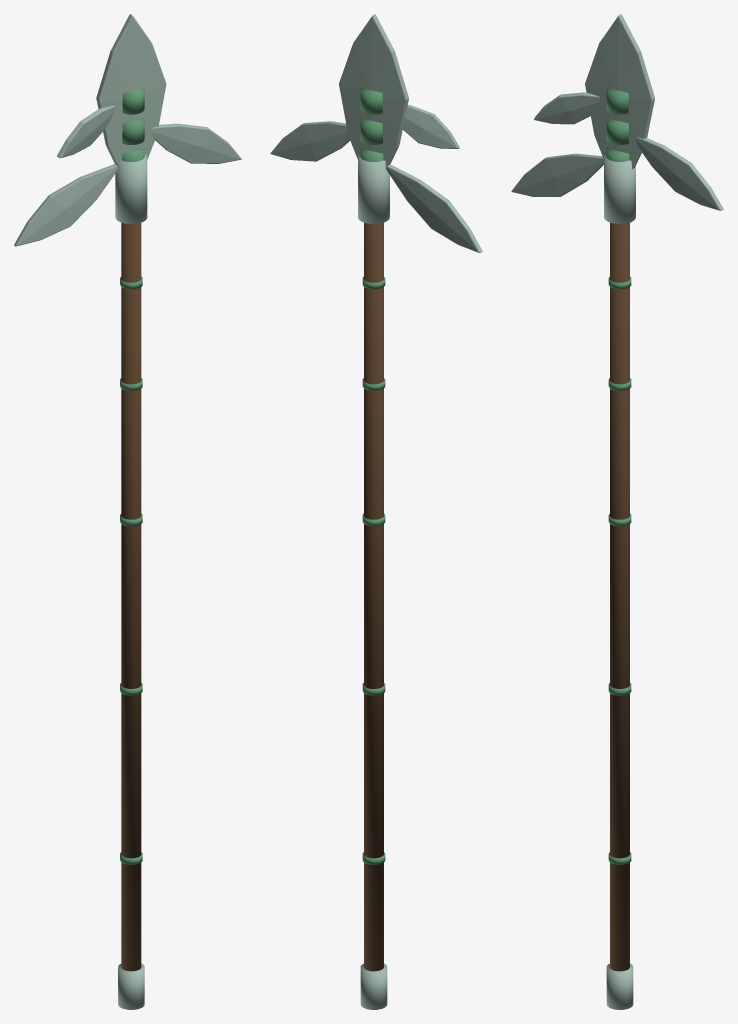
Rendered from elven-branched-spear-thorn.fbx.
The picture shows the model from 3 angles, left to right: view 1: azimuth 30°, elevation 25°; view 2: azimuth 150°, elevation 25°; view 3: azimuth 330°, elevation 25°; orthographic projection.
Visible parts, largest first — view 1: ElvenBranchedSpearThornShaft, ElvenBranchedSpearThornCentralLeaf, ElvenBranchedSpearThornBranchLeftLow, ElvenBranchedSpearThornBranchRightMid, ElvenBranchedSpearThornHeadCollar, ElvenBranchedSpearThornBranchLeftHigh, ElvenBranchedSpearThornButtCap, ElvenBranchedSpearThornBranchLeftHighCollar, ElvenBranchedSpearThornBranchRightMidCollar; view 2: ElvenBranchedSpearThornShaft, ElvenBranchedSpearThornCentralLeaf, ElvenBranchedSpearThornBranchLeftLow, ElvenBranchedSpearThornBranchRightMid, ElvenBranchedSpearThornHeadCollar, ElvenBranchedSpearThornBranchLeftHigh, ElvenBranchedSpearThornButtCap, ElvenBranchedSpearThornBranchLeftHighCollar, ElvenBranchedSpearThornBranchRightMidCollar; view 3: ElvenBranchedSpearThornShaft, ElvenBranchedSpearThornCentralLeaf, ElvenBranchedSpearThornBranchLeftLow, ElvenBranchedSpearThornBranchRightMid, ElvenBranchedSpearThornHeadCollar, ElvenBranchedSpearThornBranchLeftHigh, ElvenBranchedSpearThornButtCap, ElvenBranchedSpearThornBranchRightMidCollar, ElvenBranchedSpearThornBranchLeftHighCollar.
Part boxes in pixels (<box>): ElvenBranchedSpearThornShaft: <box>121,222,141,971</box>; ElvenBranchedSpearThornCentralLeaf: <box>96,14,166,169</box>; ElvenBranchedSpearThornBranchLeftLow: <box>14,164,118,246</box>; ElvenBranchedSpearThornBranchRightMid: <box>150,123,241,163</box>; ElvenBranchedSpearThornHeadCollar: <box>115,154,147,223</box>; ElvenBranchedSpearThornBranchLeftHigh: <box>57,106,115,158</box>; ElvenBranchedSpearThornButtCap: <box>118,963,144,1009</box>; ElvenBranchedSpearThornBranchLeftHighCollar: <box>122,87,144,114</box>; ElvenBranchedSpearThornBranchRightMidCollar: <box>122,118,144,144</box>; ElvenBranchedSpearThornShaft: <box>364,222,383,971</box>; ElvenBranchedSpearThornCentralLeaf: <box>339,14,408,166</box>; ElvenBranchedSpearThornBranchLeftLow: <box>385,164,482,253</box>; ElvenBranchedSpearThornBranchRightMid: <box>270,121,350,161</box>; ElvenBranchedSpearThornHeadCollar: <box>358,154,389,223</box>; ElvenBranchedSpearThornBranchLeftHigh: <box>401,105,459,148</box>; ElvenBranchedSpearThornButtCap: <box>360,963,387,1009</box>; ElvenBranchedSpearThornBranchLeftHighCollar: <box>360,88,382,114</box>; ElvenBranchedSpearThornBranchRightMidCollar: <box>360,118,382,144</box>; ElvenBranchedSpearThornShaft: <box>610,222,629,971</box>; ElvenBranchedSpearThornCentralLeaf: <box>585,14,654,169</box>; ElvenBranchedSpearThornBranchLeftLow: <box>511,153,603,196</box>; ElvenBranchedSpearThornBranchRightMid: <box>635,137,723,210</box>; ElvenBranchedSpearThornHeadCollar: <box>604,154,635,223</box>; ElvenBranchedSpearThornBranchLeftHigh: <box>534,92,600,124</box>; ElvenBranchedSpearThornButtCap: <box>606,963,633,1009</box>; ElvenBranchedSpearThornBranchRightMidCollar: <box>606,118,628,144</box>; ElvenBranchedSpearThornBranchLeftHighCollar: <box>606,88,628,114</box>.
Size of the model in its own units: 0.6758 by 2.92 by 0.086.
